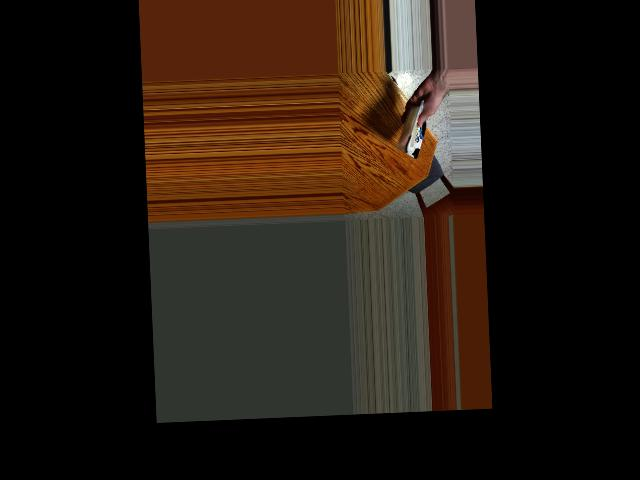cheese: (392, 104, 437, 157)
